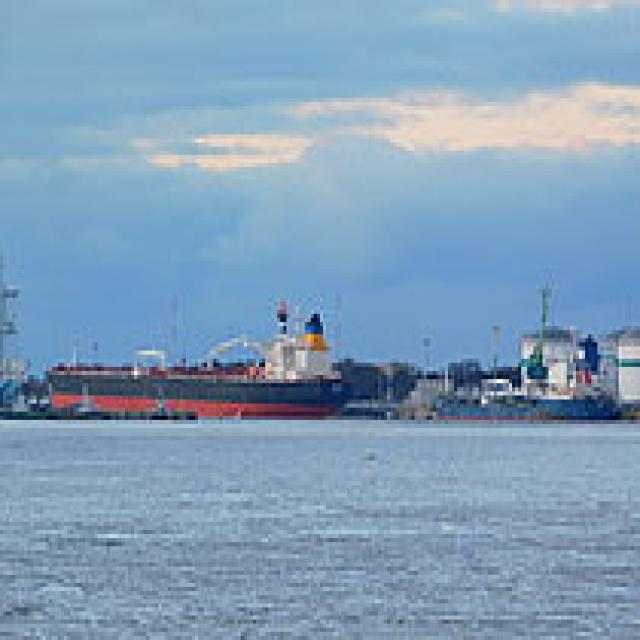Tanker: (40, 293, 341, 416)
